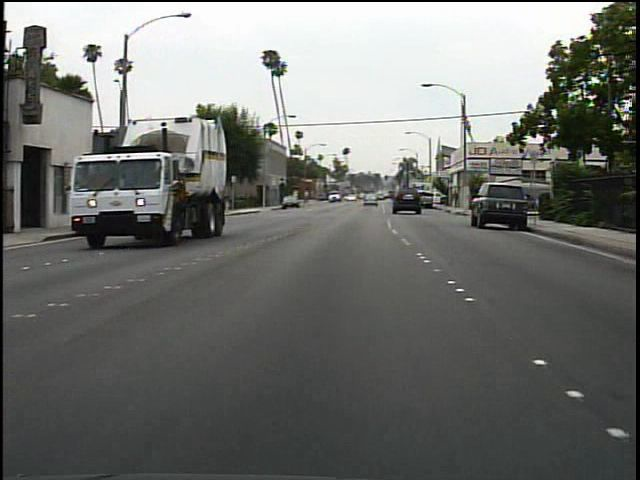person: (446, 185, 464, 213)
